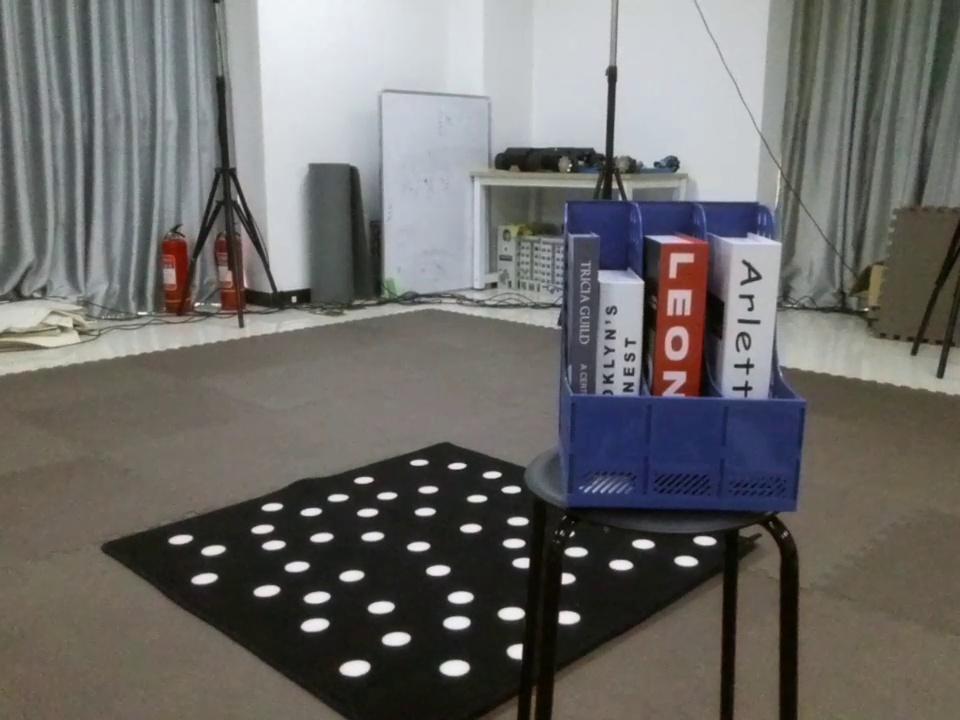files: (548, 193, 813, 519)
